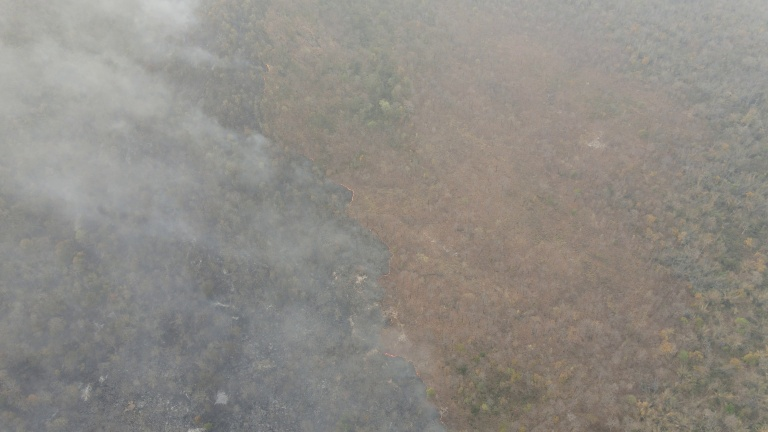smoke: (1, 1, 450, 429)
